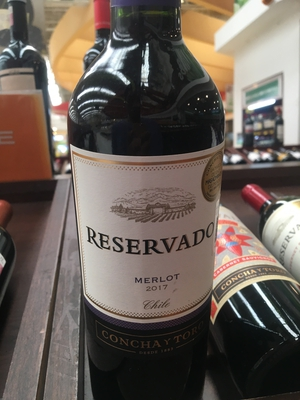reservado merlot: (67, 19, 243, 386)
